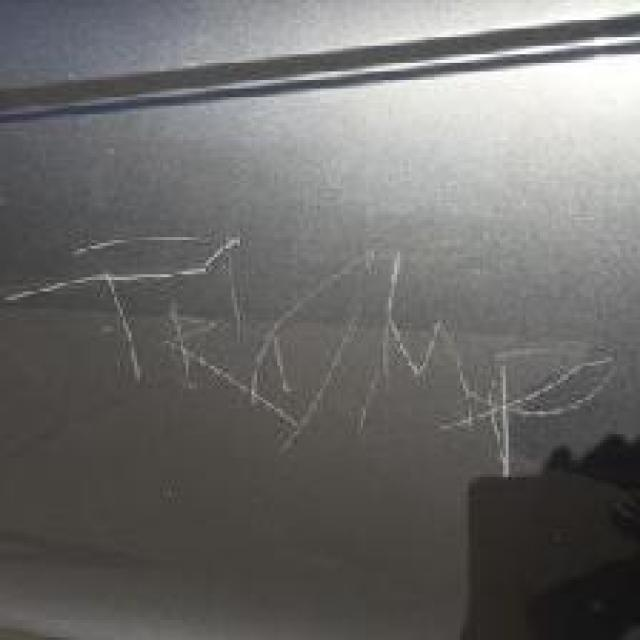damaged: (0, 234, 626, 486)
